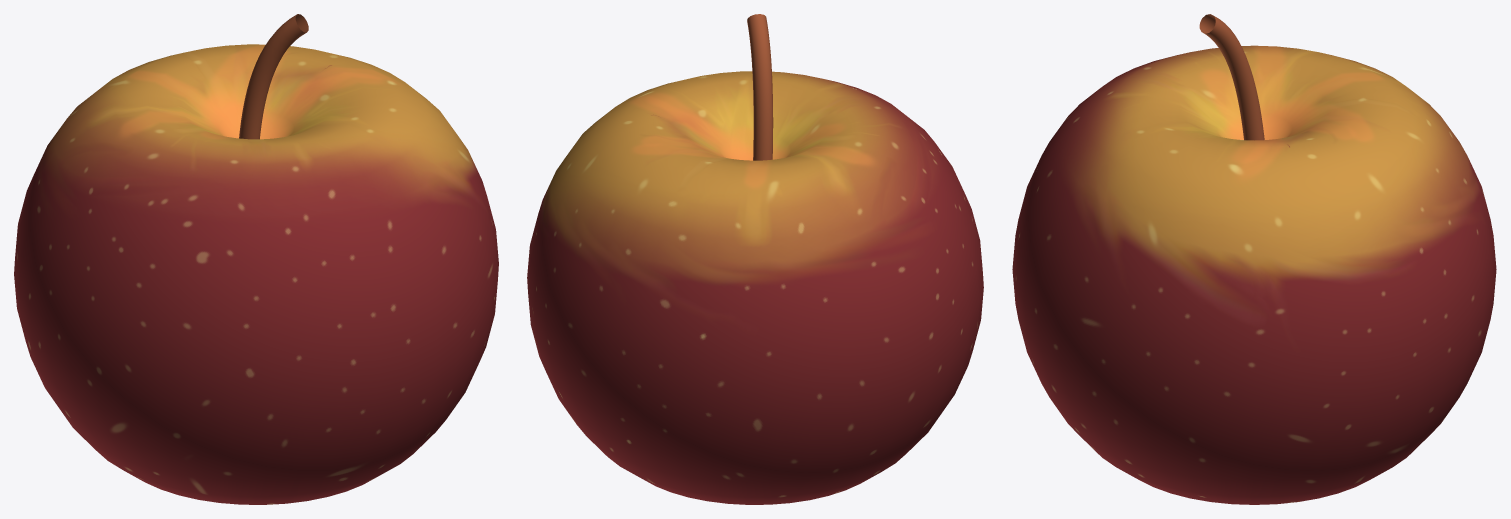
The model's file is apel.glb.
3 renders of one model, left to right at view 1: azimuth 30°, elevation 25°; view 2: azimuth 150°, elevation 25°; view 3: azimuth 270°, elevation 25°, orthographic. The views are drawn at different scales.
Parts seen in each view (by area): view 1: Sphere, NurbsPath; view 2: Sphere, NurbsPath; view 3: Sphere, NurbsPath.
Part boxes in pixels (box(x1,y1,x2,y2)): Sphere: box(14, 44, 498, 504); NurbsPath: box(239, 14, 308, 139); Sphere: box(527, 71, 983, 504); NurbsPath: box(747, 14, 773, 160); Sphere: box(1012, 45, 1496, 504); NurbsPath: box(1199, 14, 1264, 140).
Size of the model in its own units: 2 by 2.05 by 2.
Materials: 2 (1 with a texture image).
